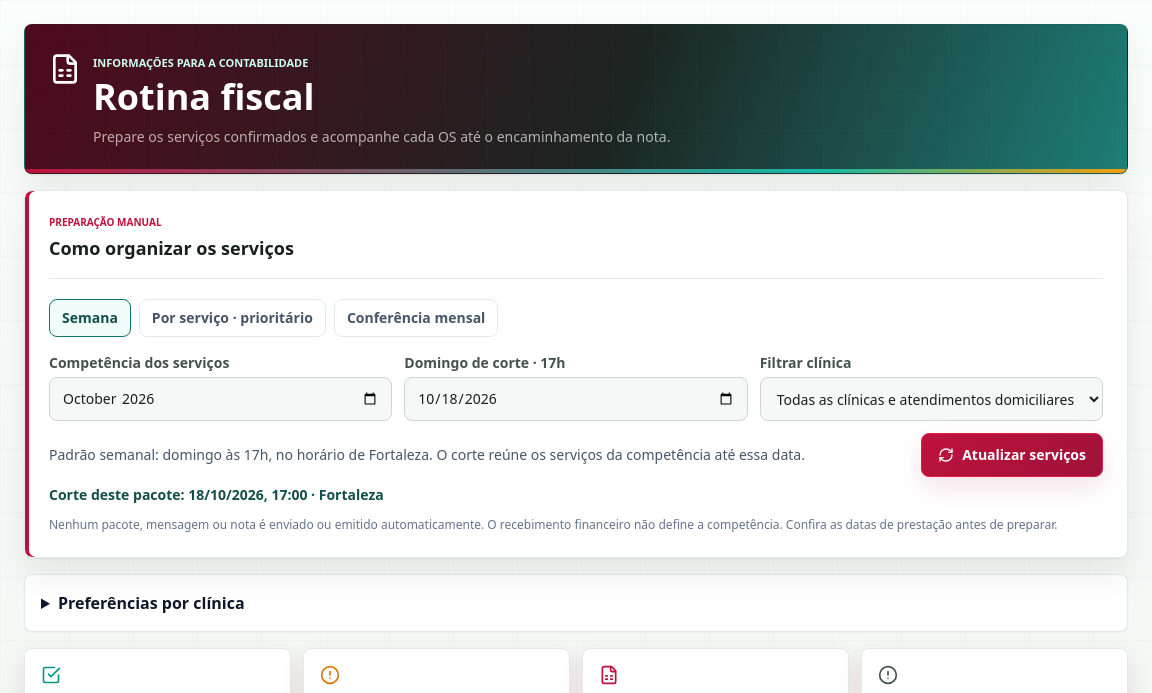
Test: RotinaFiscalPage › bloqueia preparação se a API devolver corte diferente do domingo escolhido
The width and height of the screenshot is (1152, 693).
Type "2026-10-25" into the date field labelled "Domingo de corte · 17h".
click(576, 399); type("2026-10-25")  # box 404,377 -> 748,421
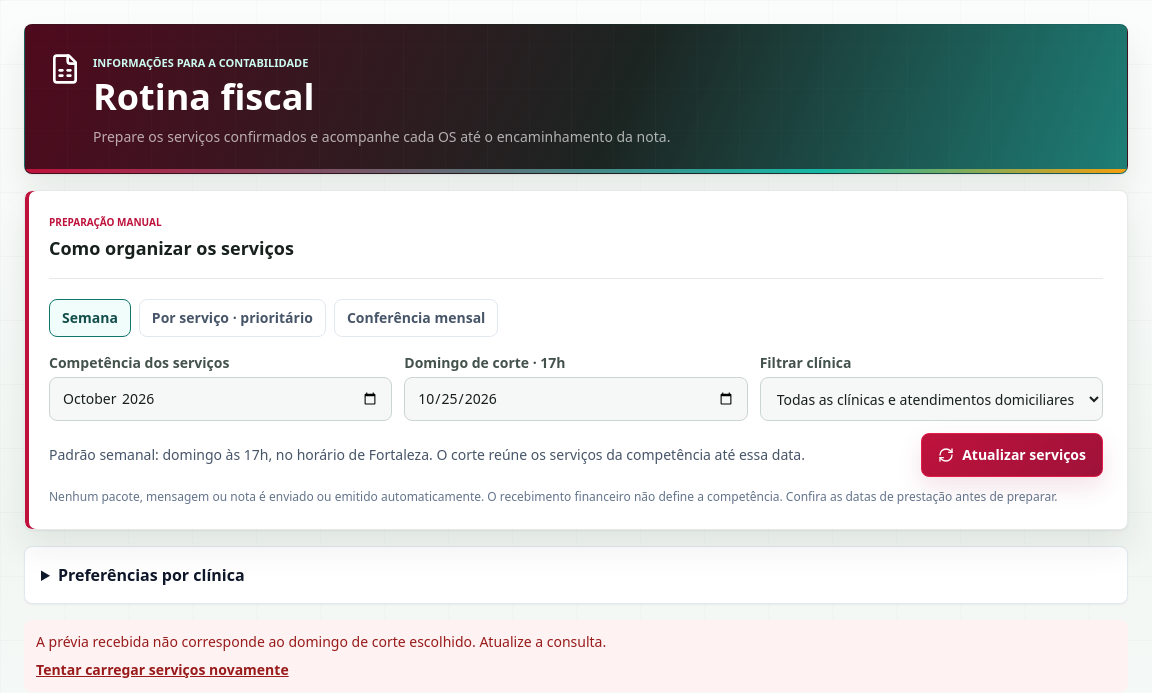
Check: the text "não corresponde ao domingo de corte escolhido" is shown, box 36,632 -> 606,651
